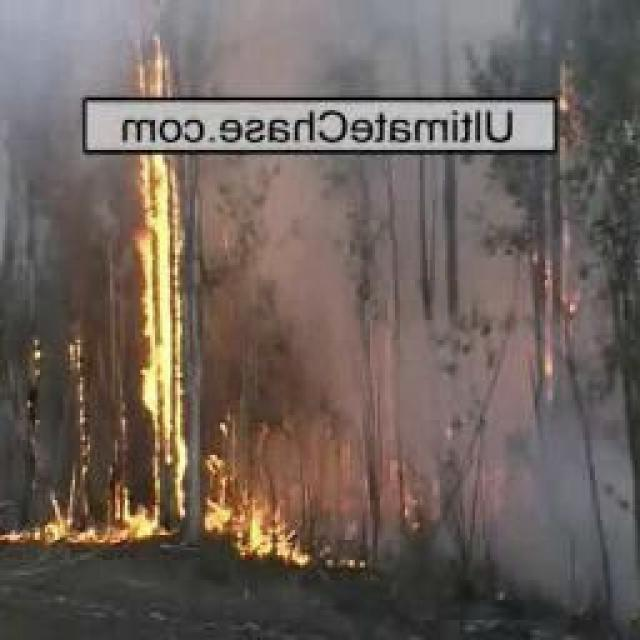Fire: (128, 48, 183, 539), (192, 494, 300, 571), (7, 502, 92, 548)
